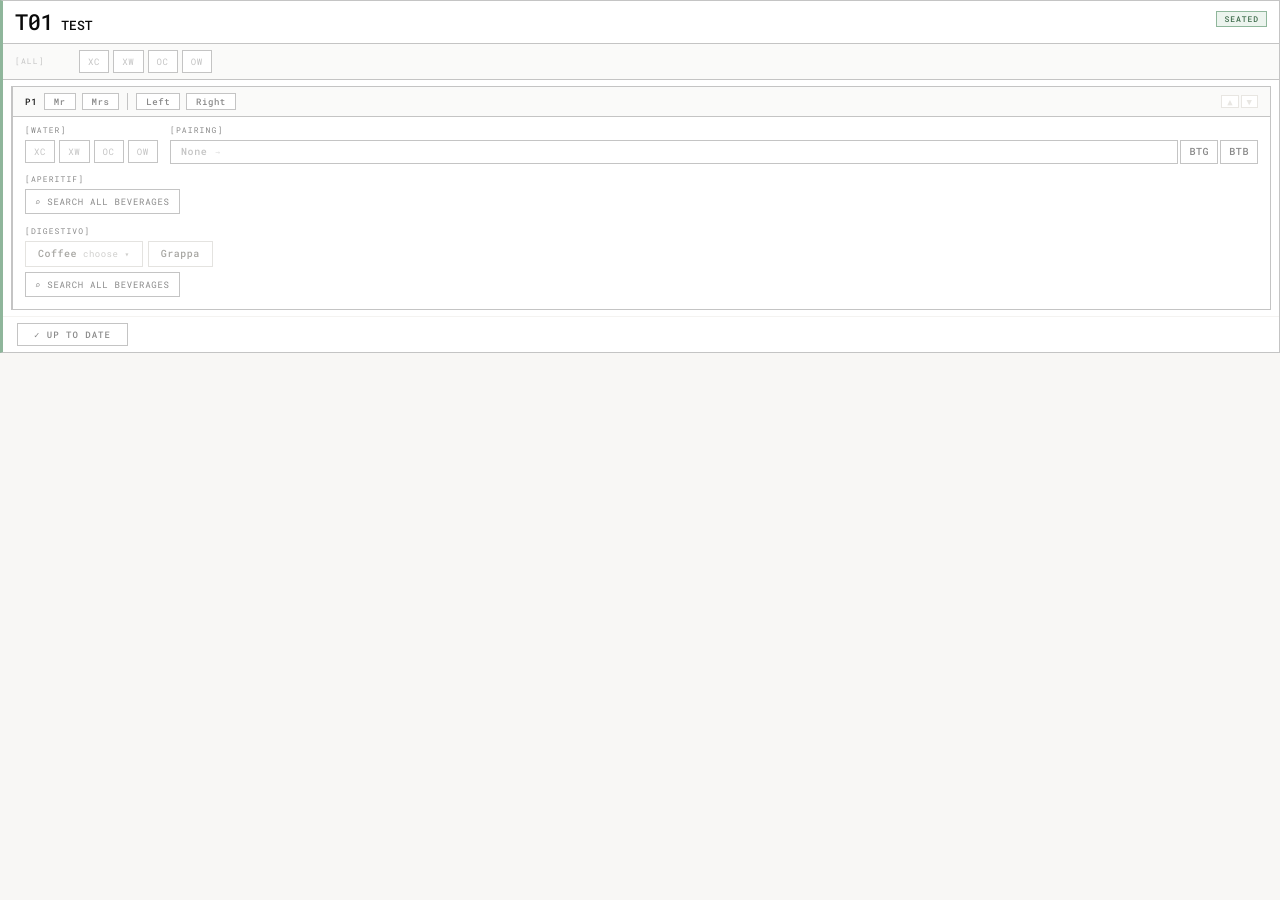
it: the digestivo buttons on the seat › opens a panel with every subcategory on it, and records the one picked
Click the button titled "Coffee — none chosen": (84, 254) 25,241 -> 143,267
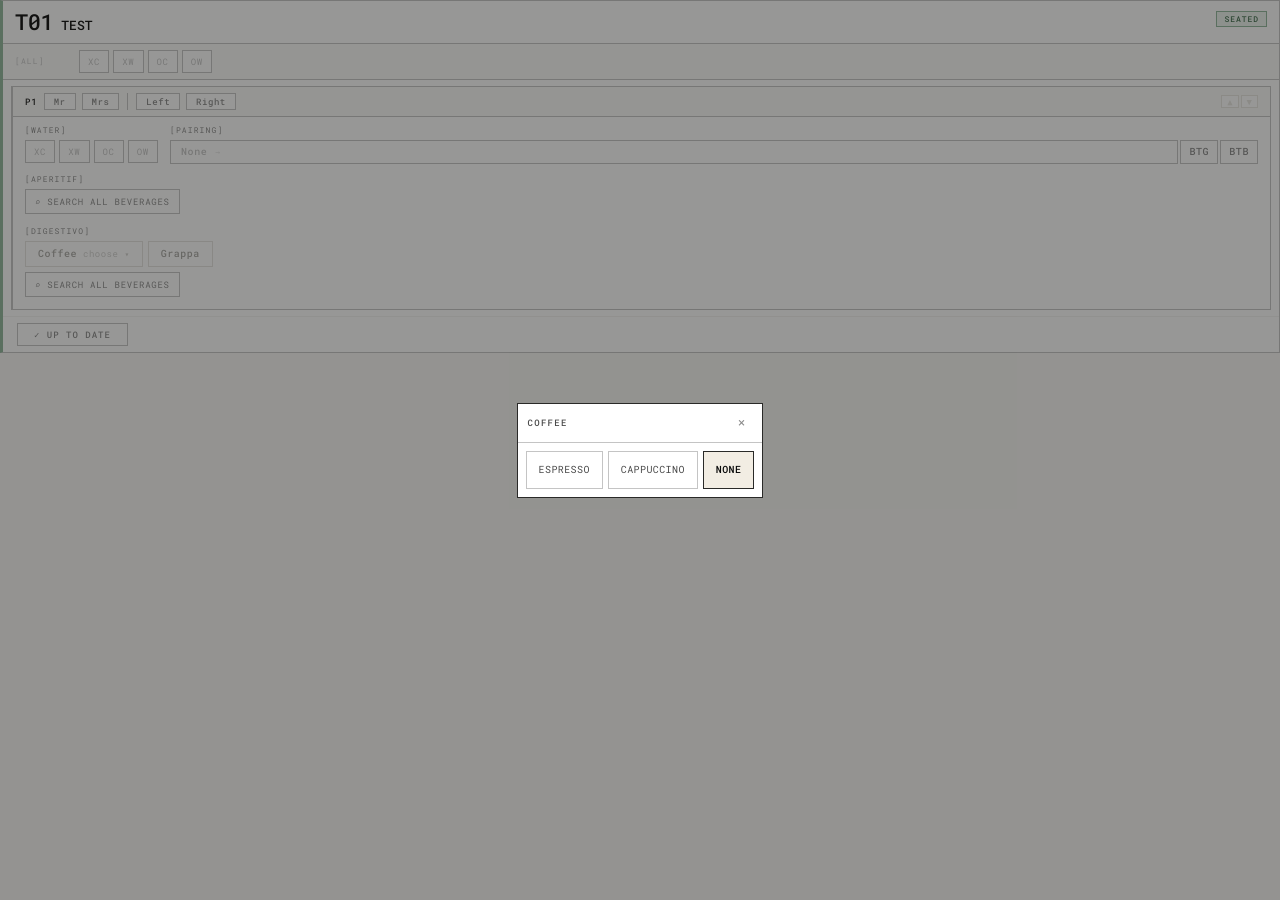
Expected: the button "Espresso" is shown, 526,450 -> 603,488
Expected: the button "Cappuccino" is shown
Click the button "Cappuccino": (653, 470) 608,450 -> 698,488
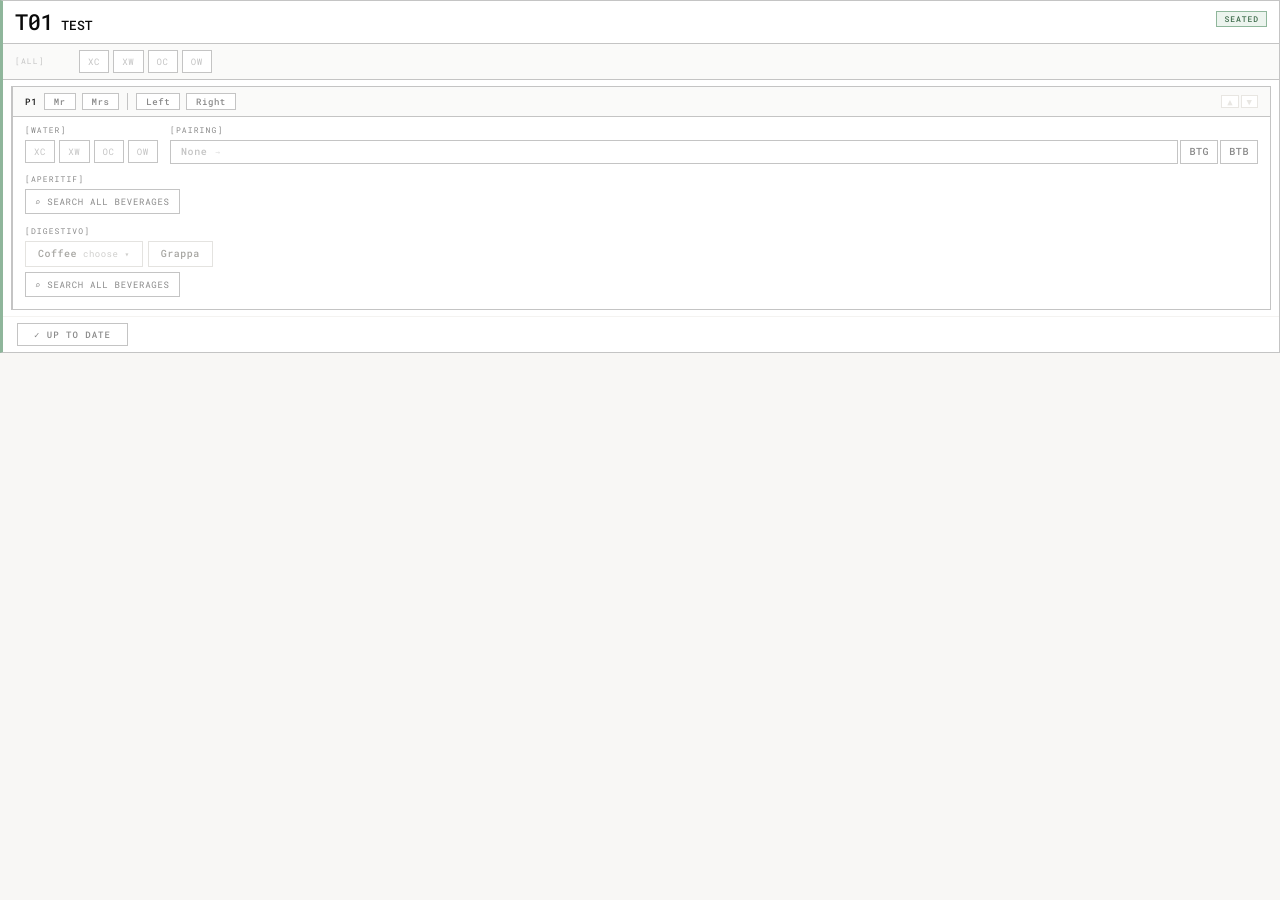
Expected: the dialog is gone
